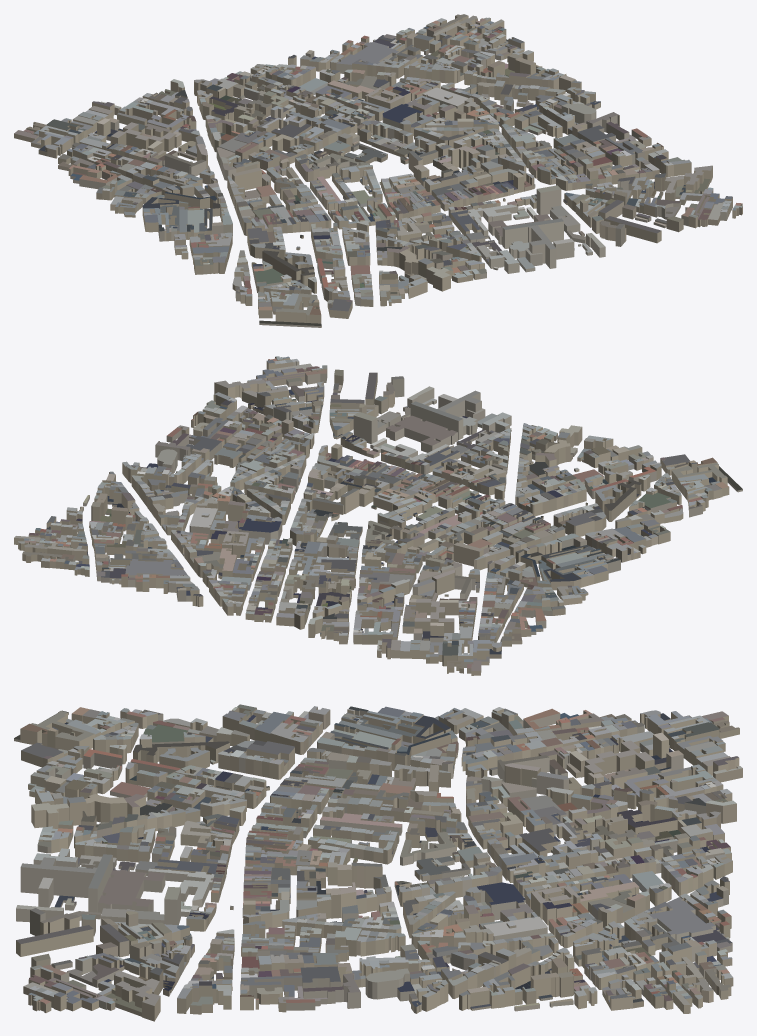
3 views of the same model, one above another, from view 1: azimuth 30°, elevation 25°; view 2: azimuth 150°, elevation 25°; view 3: azimuth 270°, elevation 25° (orthographic). The views are drawn at different scales.
Parts seen in each view (by area): view 1: tuile; view 2: tuile; view 3: tuile.
Part boxes in pixels (box(x1,y1,x2,y2)): tuile: box(14, 14, 742, 327); tuile: box(14, 356, 742, 675); tuile: box(14, 704, 742, 1021).
Bounding box in the file's own units: 1062 × 58.71 × 1049.
